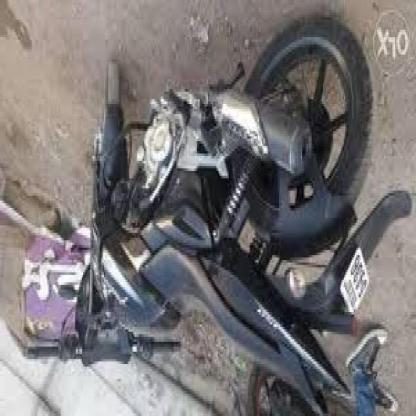bike: (77, 17, 395, 337)
